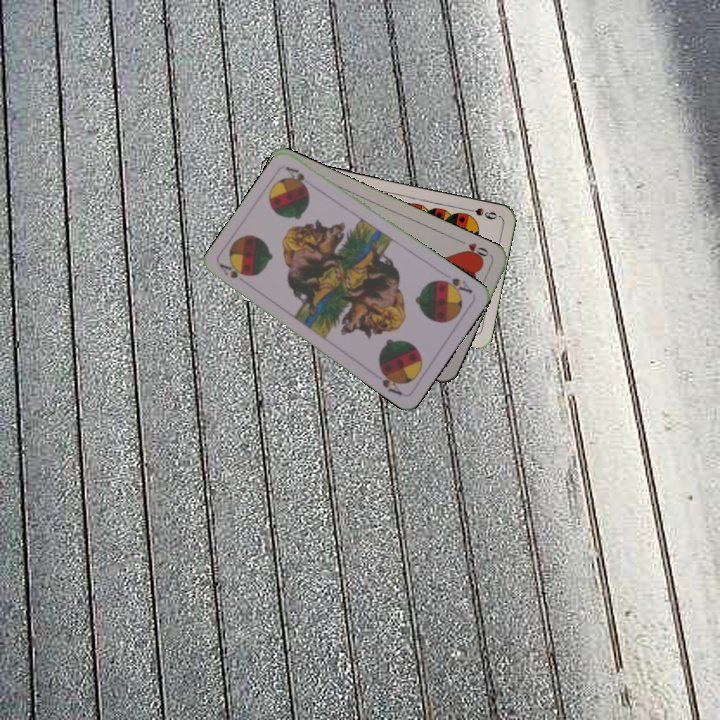HO: (455, 236, 493, 263)
S9: (460, 204, 500, 222)
SA: (436, 273, 475, 297), (216, 260, 249, 281)
